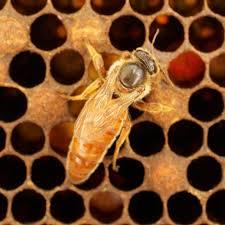Queen-Bee: (57, 30, 173, 191)
